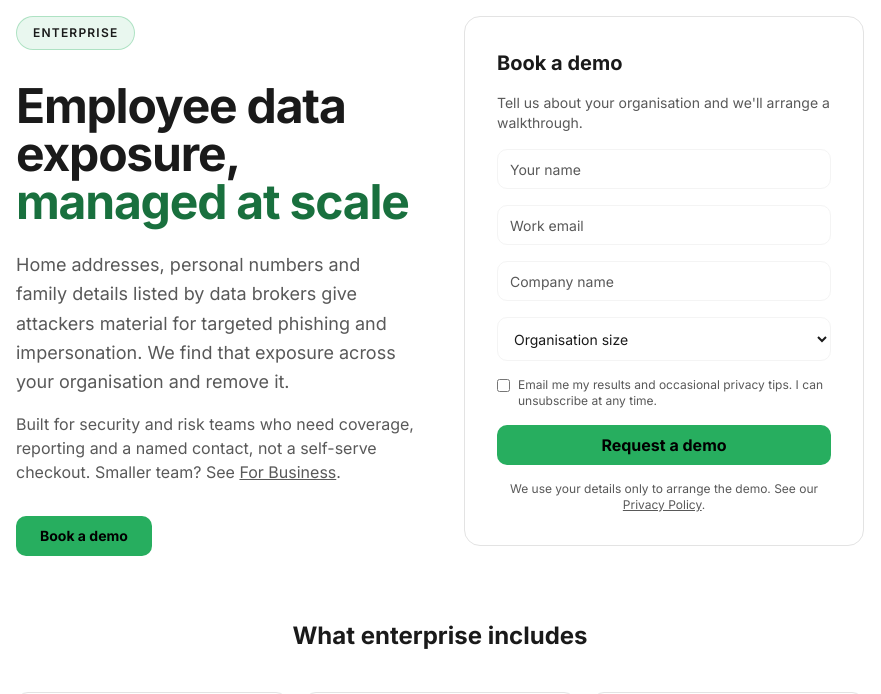
Test case: Enterprise page › does not track when the submit fails
The image size is (881, 694).
Type "a@corp.com" into the field with placeholder "Work email". click: (664, 225)
box: [497, 205, 831, 245]
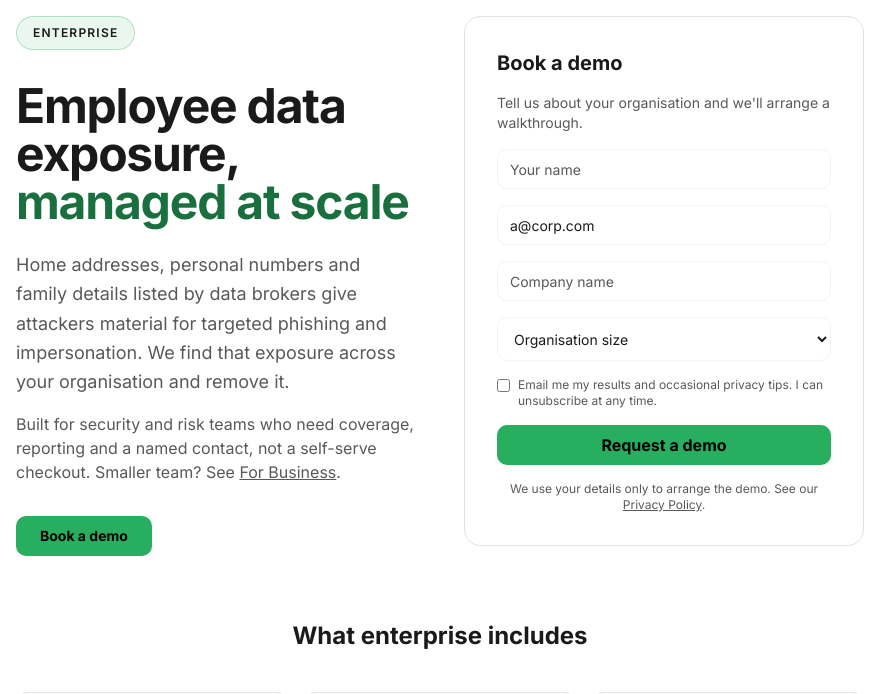
Type "Corp" into the field with placeholder "Company name". click: (664, 281)
box: [497, 261, 831, 301]
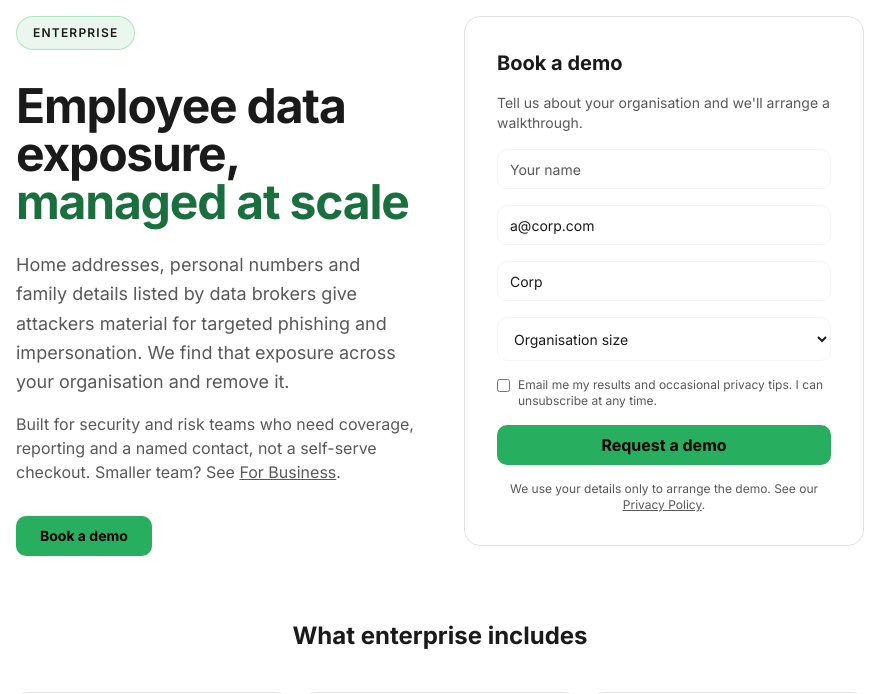
Click the checkbox. click: (504, 386)
box: [497, 379, 510, 392]
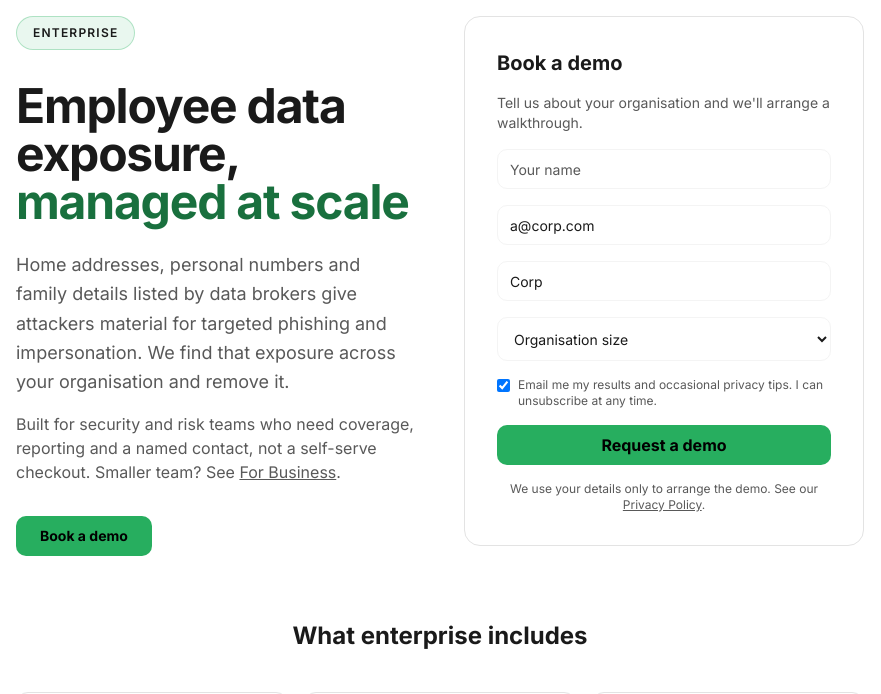
Click the button "Request a demo". click: (664, 445)
box: [497, 425, 831, 465]
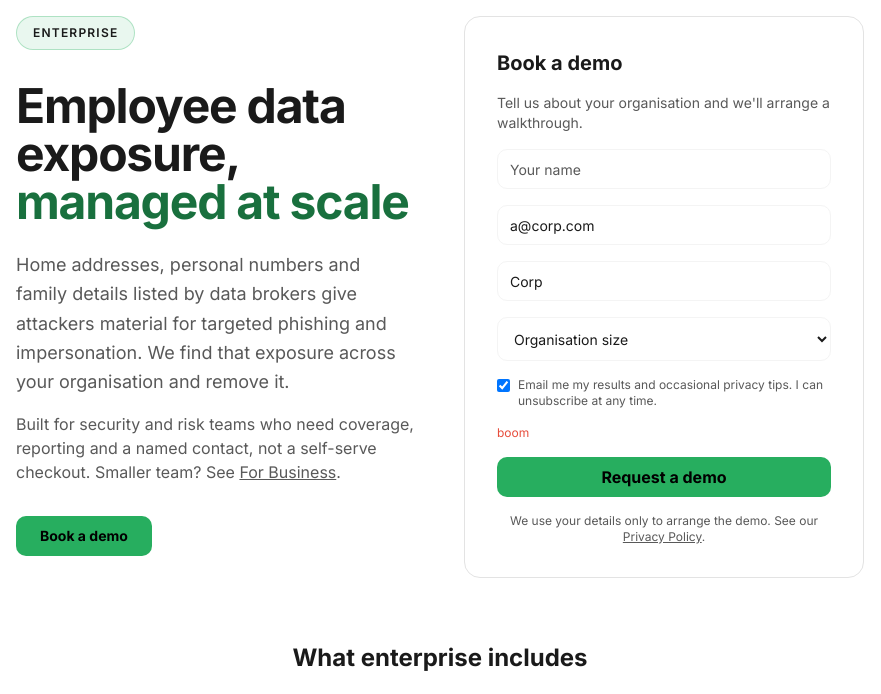
Now the message reads "boom", box [497, 425, 529, 440]
